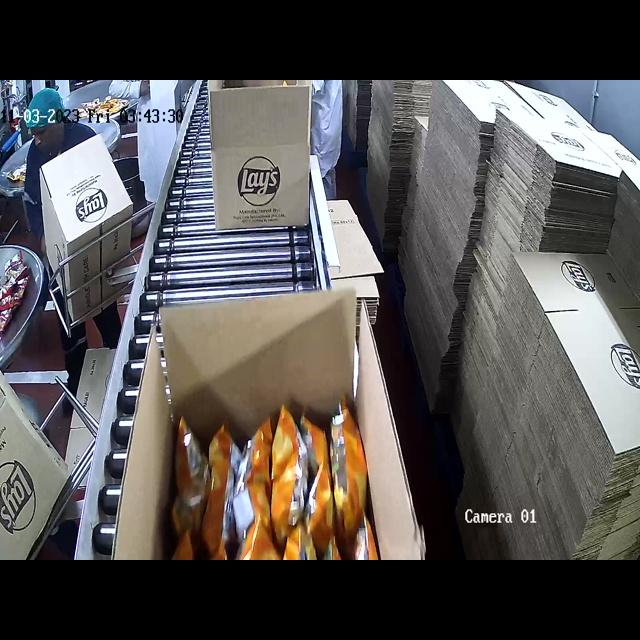cheese: (171, 423, 371, 560)
